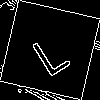L: (25, 25, 72, 78)
